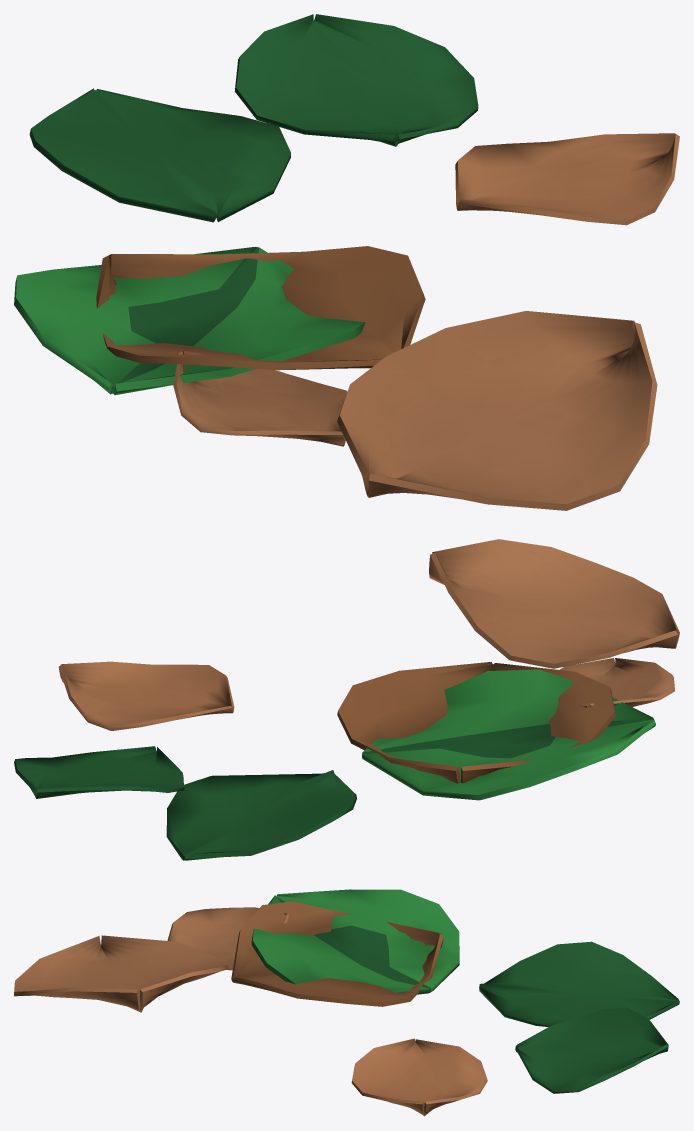
Rendered from canopy_gc_leaf_litter_b.glb.
3 views of the same model, one above another, from view 1: azimuth 30°, elevation 25°; view 2: azimuth 150°, elevation 25°; view 3: azimuth 270°, elevation 25° (orthographic). The views are drawn at different scales.
Visible parts, largest first — view 1: canopy_gc_leaf_litter_b; view 2: canopy_gc_leaf_litter_b; view 3: canopy_gc_leaf_litter_b.
Part boxes in pixels (x1=…): canopy_gc_leaf_litter_b: x1=14, y1=14, x2=679, y2=510; canopy_gc_leaf_litter_b: x1=14, y1=539, x2=679, y2=860; canopy_gc_leaf_litter_b: x1=14, y1=889, x2=679, y2=1116.
Size of the model in its own units: 3.81 by 0.4276 by 5.14.
